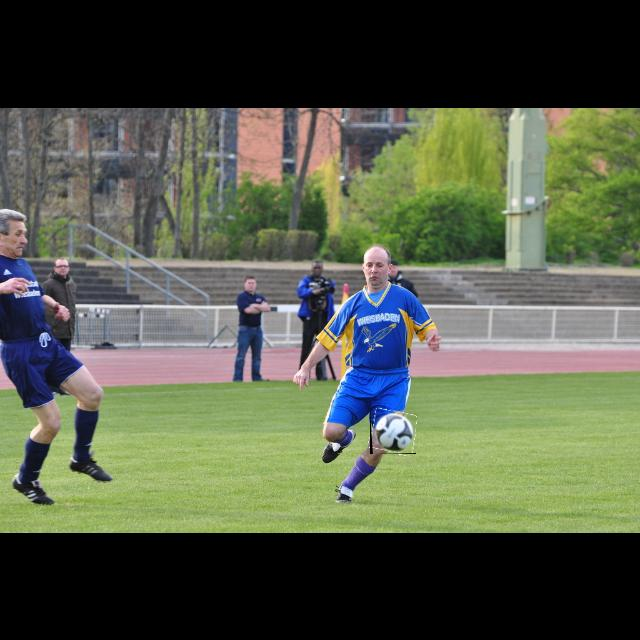Football: (370, 410, 416, 454)
